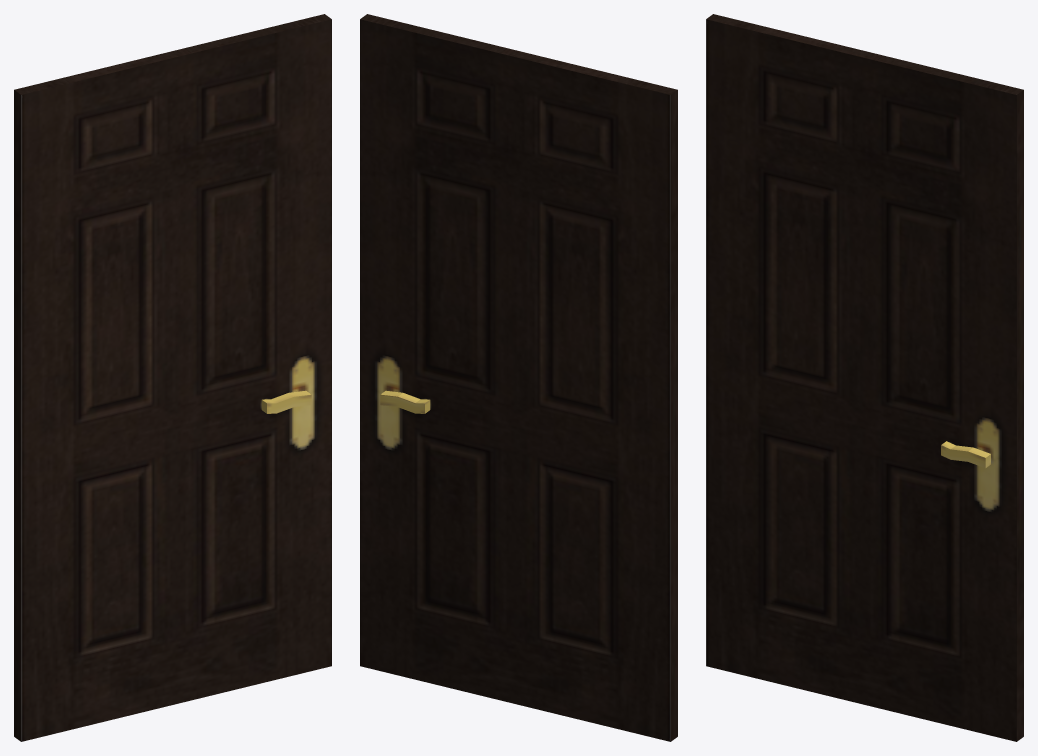
File: door.fbx
The picture shows the model from 3 angles, left to right: view 1: azimuth 30°, elevation 25°; view 2: azimuth 150°, elevation 25°; view 3: azimuth 330°, elevation 25°; orthographic projection.
Visible parts, largest first — view 1: door; view 2: door; view 3: door.
Boxes of the visible parts, x1,y1,x2,y2 form: door: (14,14,331,741); door: (360,14,677,741); door: (706,14,1023,741).
Bounding box in the file's own units: 100 × 199 × 10.
1 material, 1 textured.
